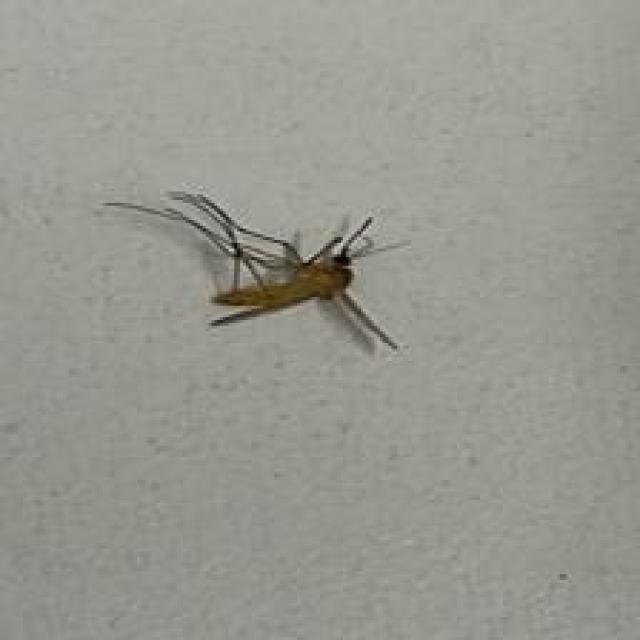Culex: (103, 187, 411, 359)
